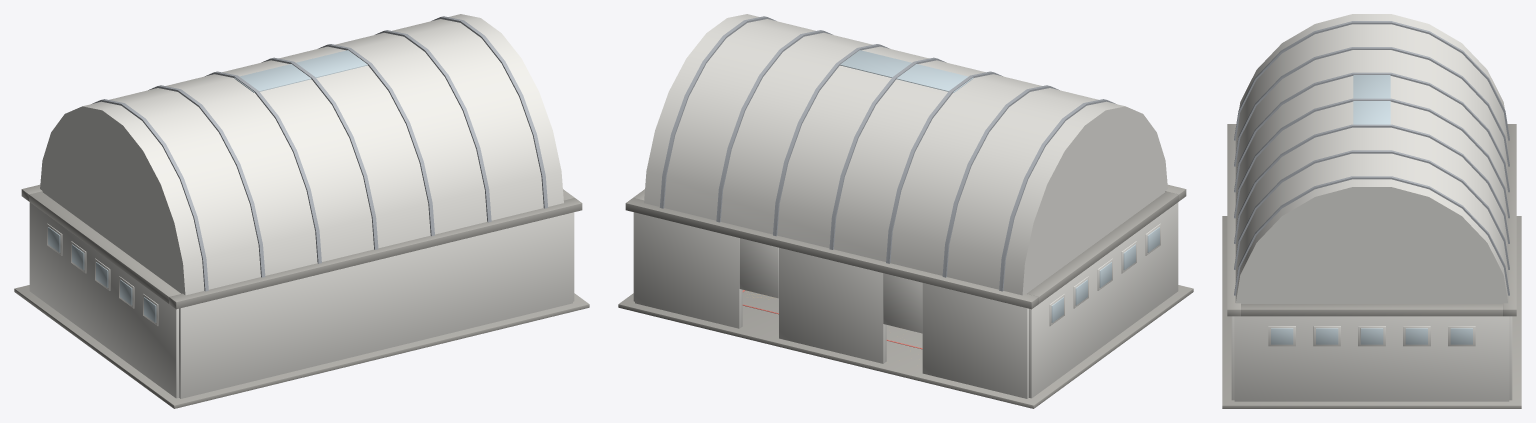
The model's file is th10_sporthalle.glb.
3 views of the same model, side by side, from view 1: azimuth 30°, elevation 25°; view 2: azimuth 150°, elevation 25°; view 3: azimuth 270°, elevation 25° (orthographic). The views are drawn at different scales.
Parts seen in each view (by area): view 1: Cylinder, Cube.007, Cube.008, Cube, Cube.030, Cube.032, Cube.034, Cylinder.007, Cylinder.002, Cylinder.006, Cylinder.001, Cylinder.004 (+2 smaller); view 2: Cylinder, Cube.008, Cube.002, Cube.004, Cube.003, Cube, Cube.031, Cube.032, Cube.034, Cube.005, Cube.006, Cylinder.007 (+6 smaller); view 3: Cylinder, Cube.019, Cube, Cube.033, Cube.034, Cube.030, Cube.031, Cylinder.006, Cylinder.007, Cylinder.005, Cylinder.001, Cylinder.002 (+9 smaller).
Boxes of the visible parts, x1=… form: Cylinder: x1=40, y1=14, x2=563, y2=295; Cube.007: x1=179, y1=212, x2=572, y2=398; Cube.008: x1=29, y1=202, x2=178, y2=398; Cube: x1=14, y1=285, x2=589, y2=408; Cube.030: x1=169, y1=198, x2=582, y2=309; Cube.032: x1=29, y1=191, x2=180, y2=303; Cube.034: x1=234, y1=50, x2=367, y2=92; Cylinder.007: x1=432, y1=16, x2=548, y2=208; Cylinder.002: x1=148, y1=85, x2=265, y2=277; Cylinder.006: x1=375, y1=30, x2=491, y2=222; Cylinder.001: x1=92, y1=99, x2=208, y2=291; Cylinder.004: x1=261, y1=57, x2=378, y2=249; Cylinder: x1=644, y1=14, x2=1167, y2=295; Cube.008: x1=1029, y1=202, x2=1178, y2=398; Cube.002: x1=922, y1=283, x2=1028, y2=398; Cube.004: x1=635, y1=212, x2=742, y2=328; Cube.003: x1=779, y1=247, x2=886, y2=363; Cube: x1=618, y1=285, x2=1193, y2=408; Cube.031: x1=625, y1=198, x2=1038, y2=309; Cube.032: x1=1027, y1=191, x2=1178, y2=303; Cube.034: x1=840, y1=50, x2=973, y2=92; Cube.005: x1=883, y1=273, x2=922, y2=333; Cube.006: x1=739, y1=238, x2=778, y2=298; Cylinder.007: x1=659, y1=16, x2=775, y2=208; Cylinder: x1=1235, y1=14, x2=1508, y2=303; Cube.019: x1=1234, y1=316, x2=1509, y2=401; Cube: x1=1222, y1=216, x2=1521, y2=408; Cube.033: x1=1241, y1=304, x2=1502, y2=316; Cube.034: x1=1353, y1=75, x2=1390, y2=124; Cube.030: x1=1227, y1=124, x2=1240, y2=316; Cube.031: x1=1503, y1=124, x2=1516, y2=316; Cylinder.006: x1=1234, y1=150, x2=1509, y2=269; Cylinder.007: x1=1234, y1=176, x2=1509, y2=295; Cylinder.005: x1=1234, y1=124, x2=1509, y2=243; Cylinder.001: x1=1234, y1=21, x2=1509, y2=140; Cylinder.002: x1=1234, y1=47, x2=1509, y2=166.
Size of the model in its own units: 36 by 19.03 by 24.
